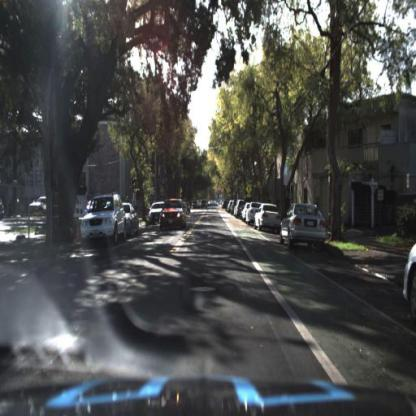car: (280, 197, 331, 256), (82, 194, 126, 244), (279, 203, 329, 243), (156, 198, 190, 233), (254, 198, 283, 232), (160, 199, 189, 230), (121, 197, 142, 239), (122, 199, 142, 241), (252, 203, 280, 233)
